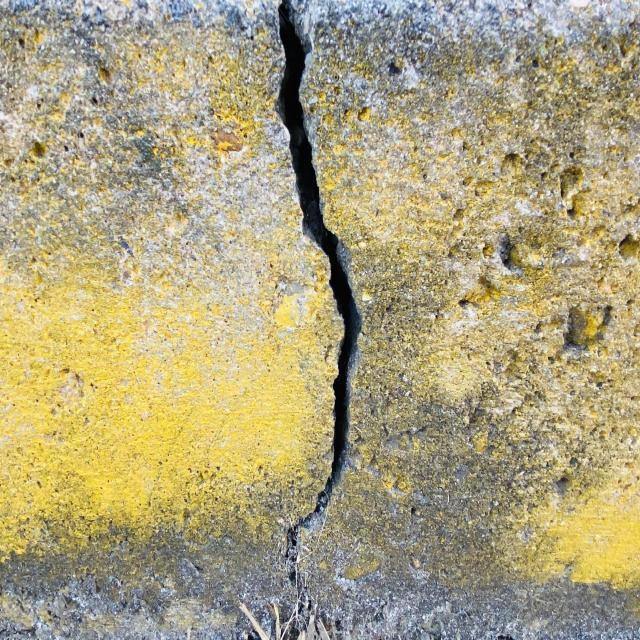GRIETA: (279, 0, 360, 612)
